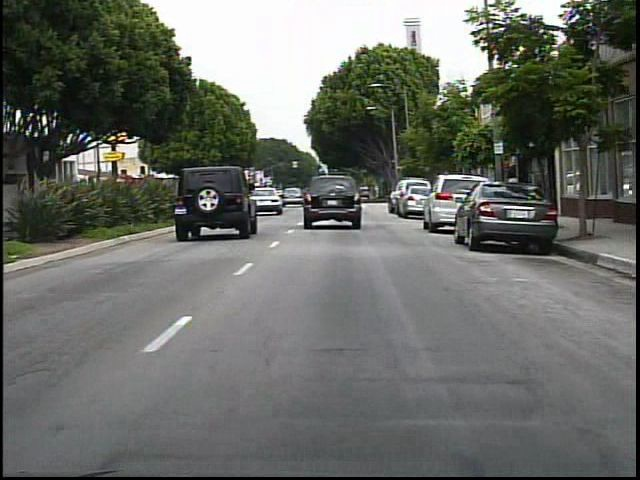person: (503, 164, 525, 219)
